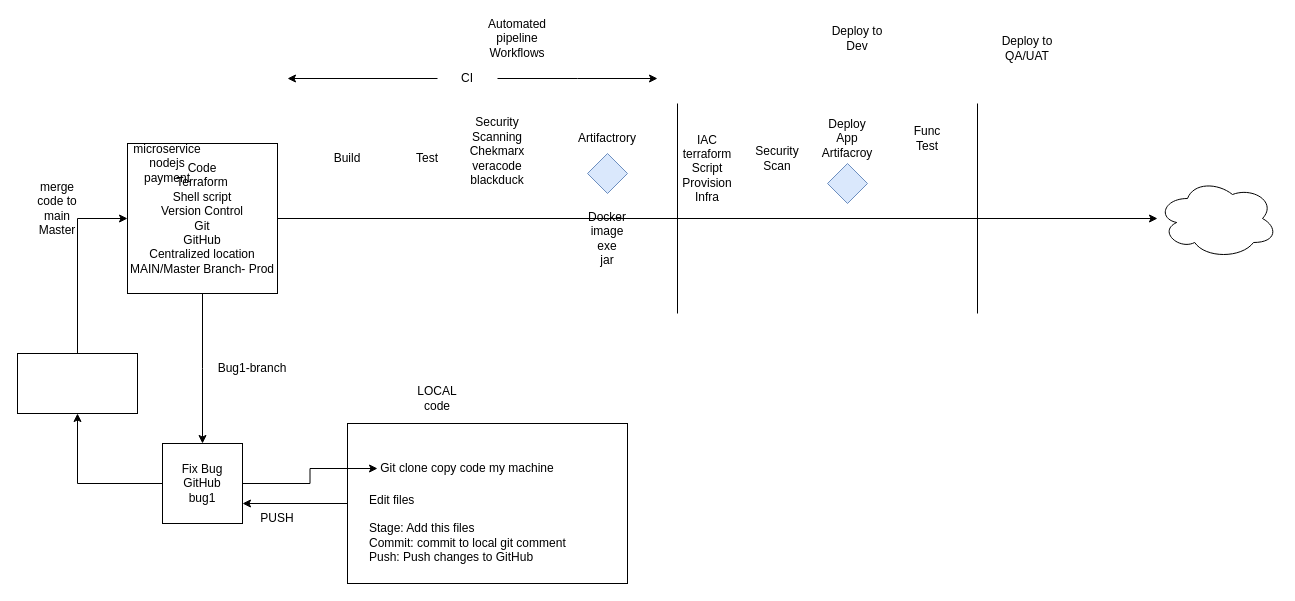
The diagram is 1295 pixels wide and 601 high, and some of its shapes have lost their labels. The shapes that lost their labels are listed below. From the top down, each one's box as (x1, y1, x2, y2) in pixels, then its label:
(1156, 178, 1278, 258): Prod
(16, 352, 138, 414): Pull Request review
